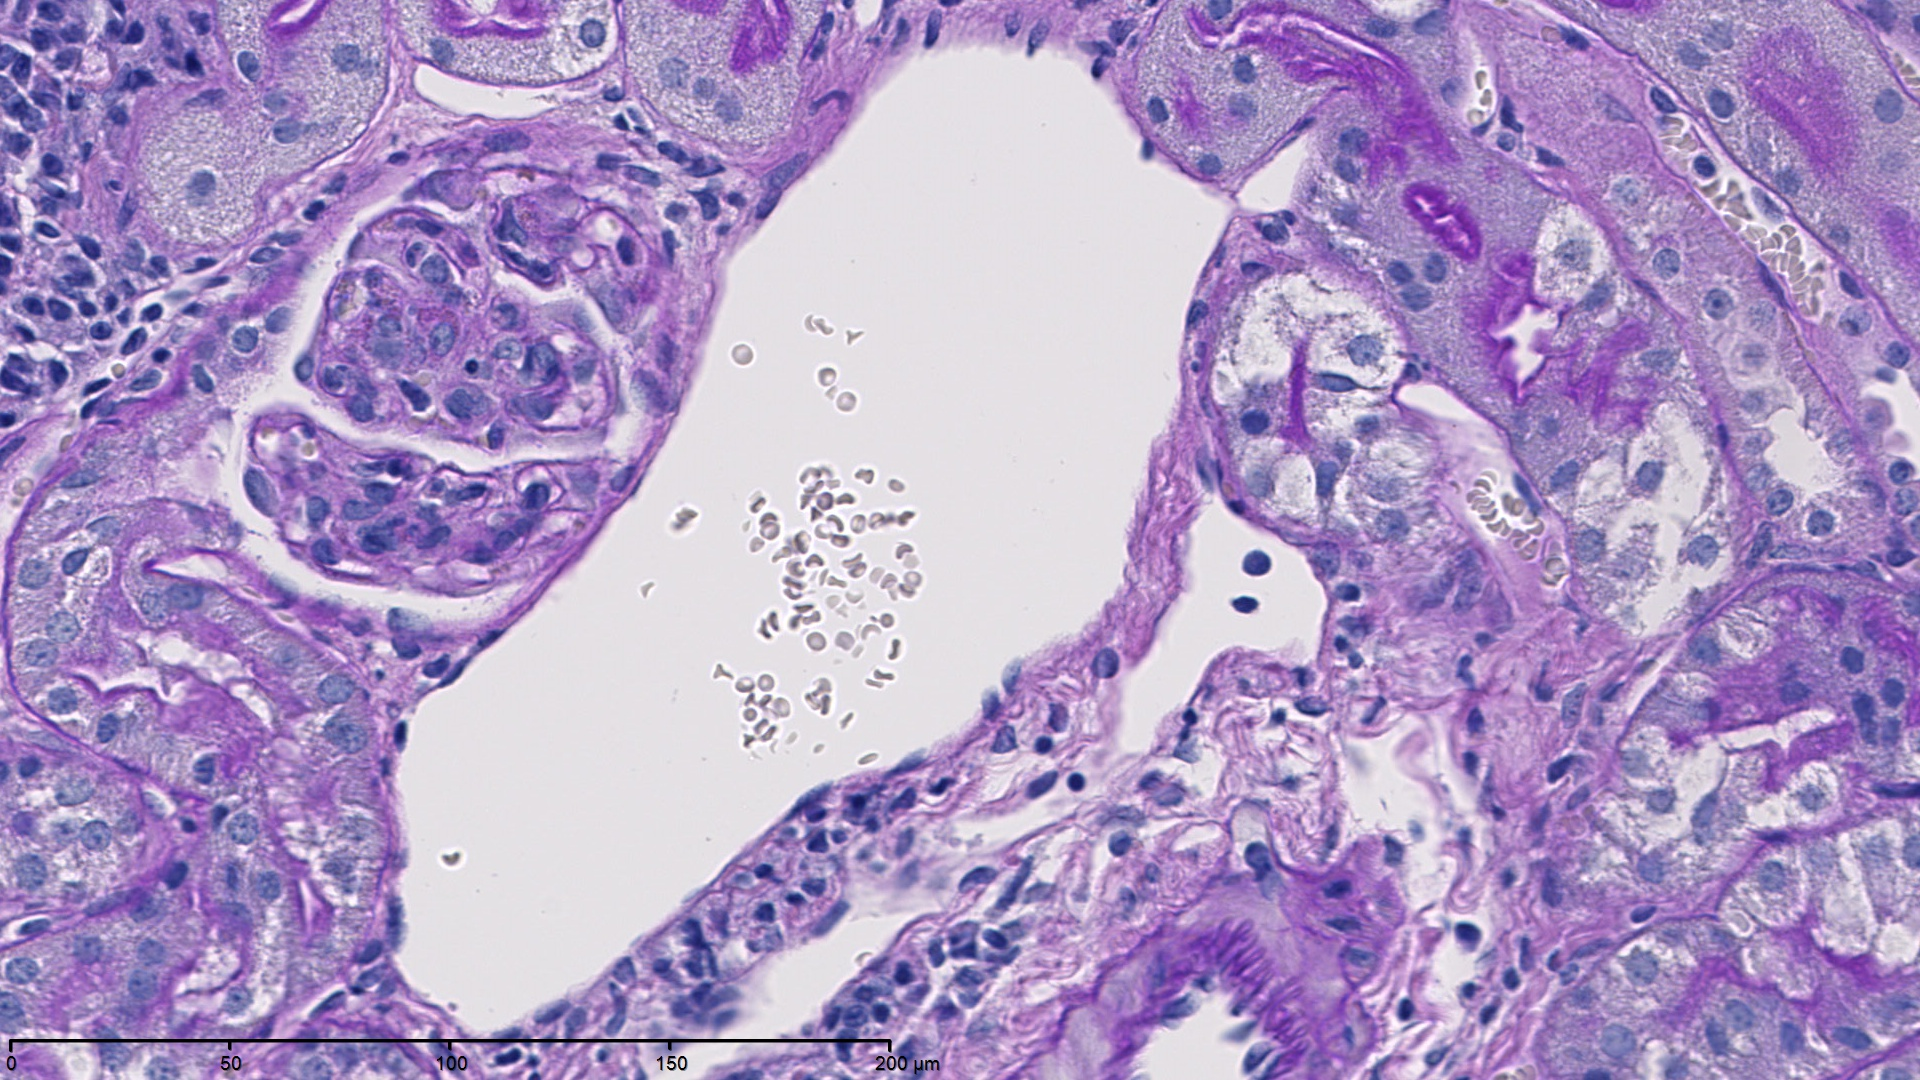Glomeruli: (241, 137, 712, 593)
